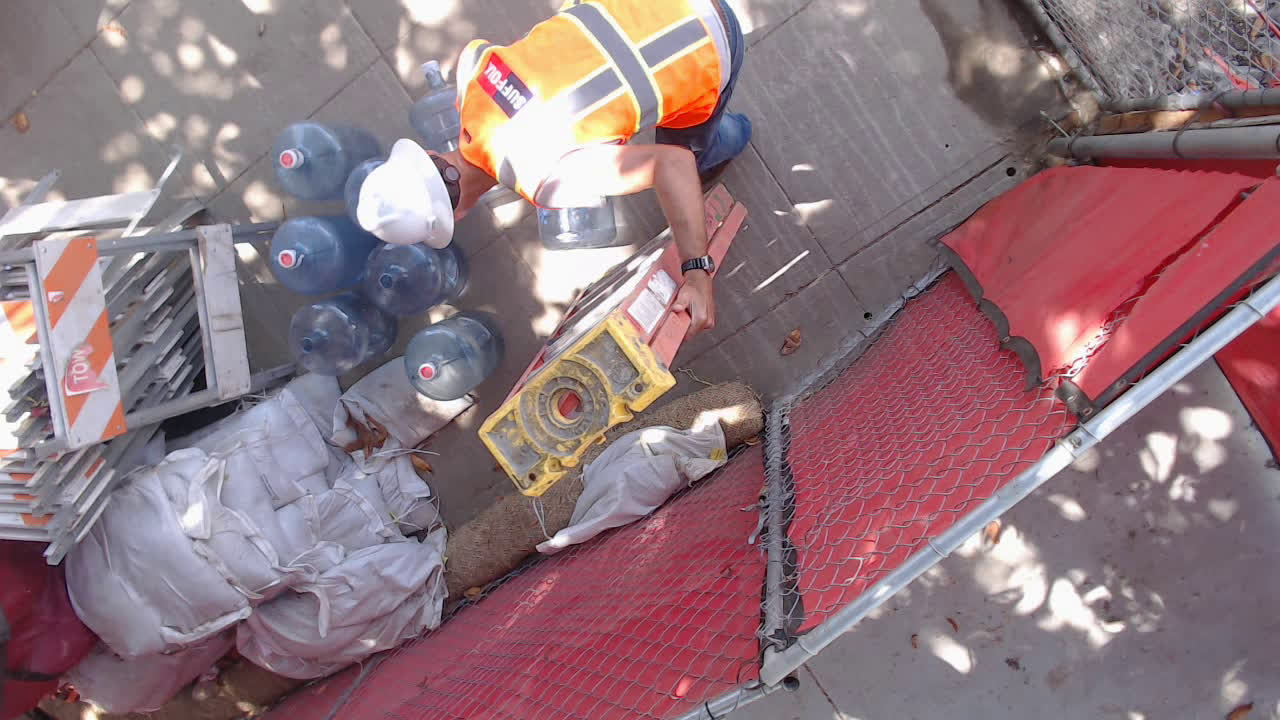hardhat: (353, 136, 457, 257)
safetyvest: (455, 1, 729, 206), (523, 37, 806, 222), (636, 222, 805, 415)
